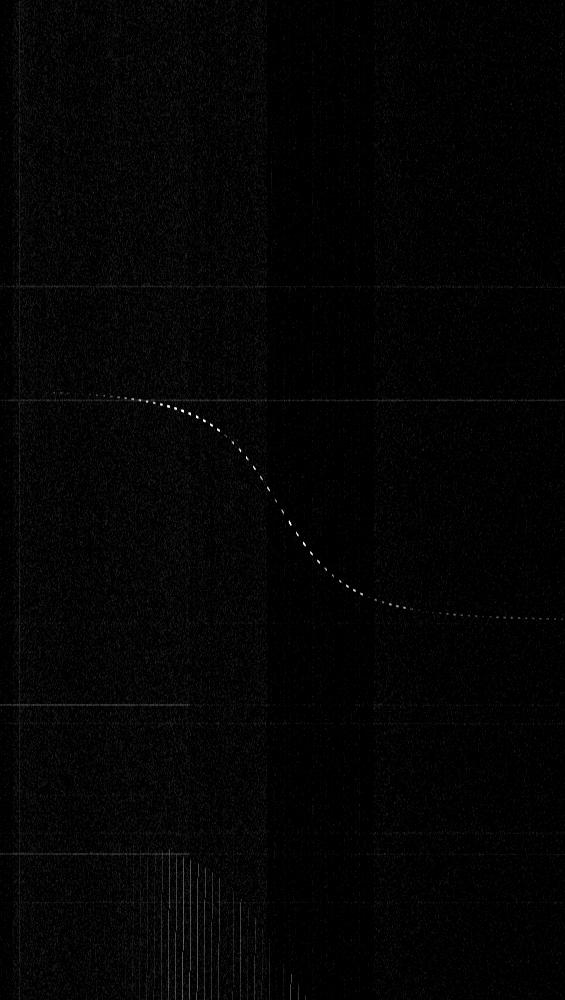signal: (0, 0, 564, 999)
